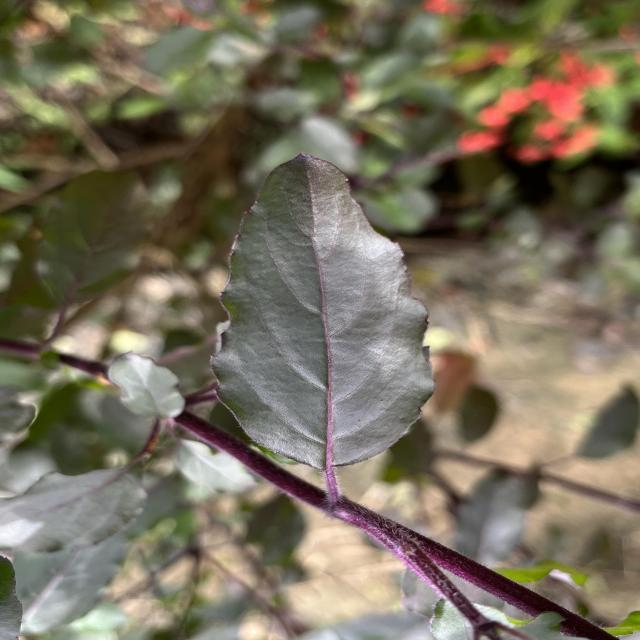Ocimum tenuiflorum: (208, 153, 438, 469)
